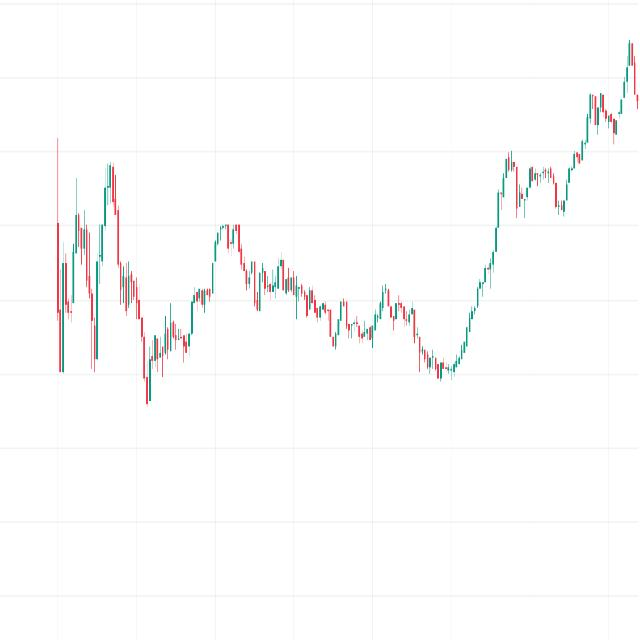Descending-Triangle: (209, 166, 350, 321)
Rounding-Bottom: (411, 313, 473, 390)
